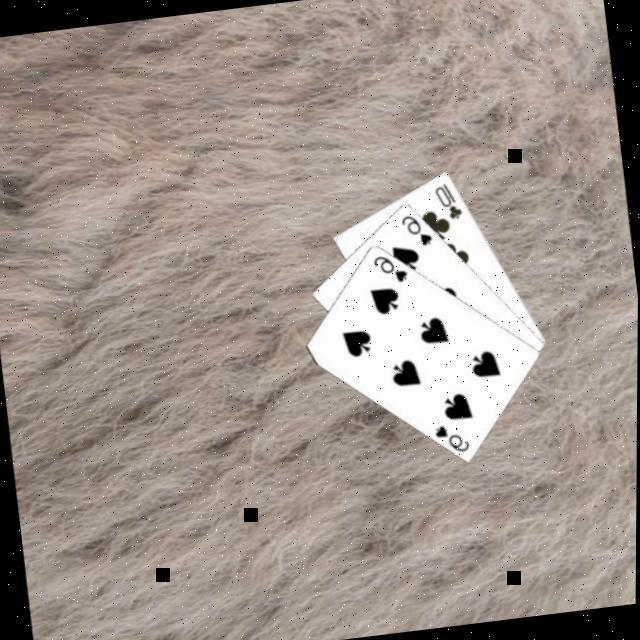10C: (432, 179, 467, 224)
6S: (431, 420, 474, 458), (399, 211, 437, 253), (370, 250, 412, 288)
